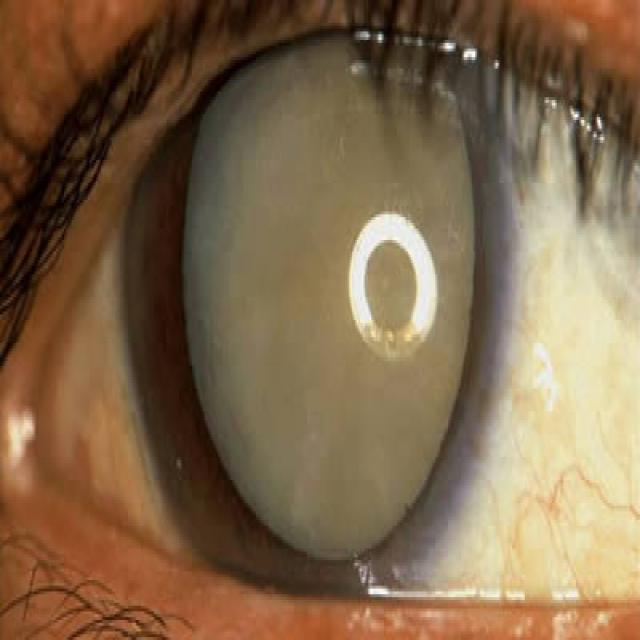Cataract: (102, 47, 501, 578)
